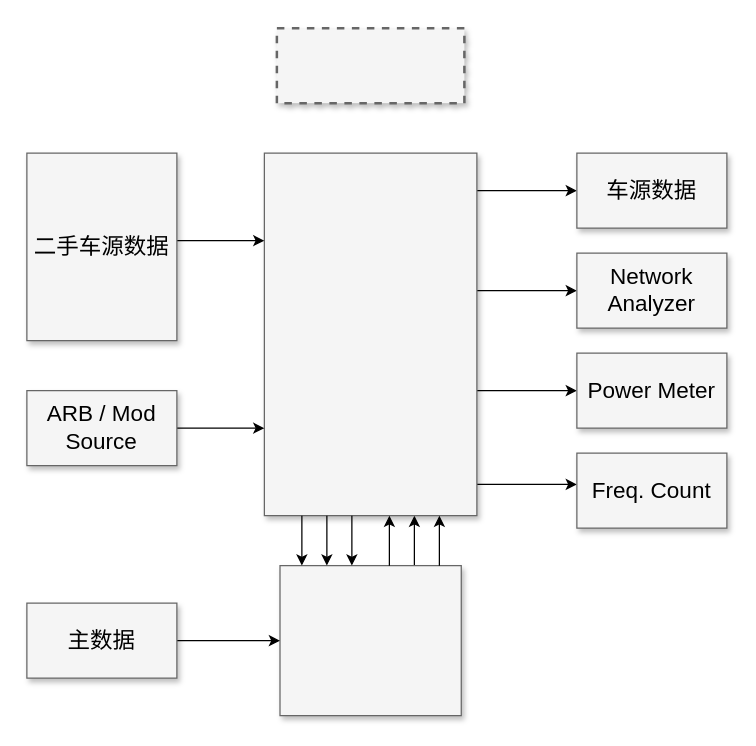
This 756x746 diagram has some shape labels left out. Here are the shapes that lost their labels. From the top down, the centre of each, then its label:
At pixel 371 66: "型号匹配模块".
At pixel 371 335: "二手车源配置映射".
At pixel 371 641: "型号匹配接口".
